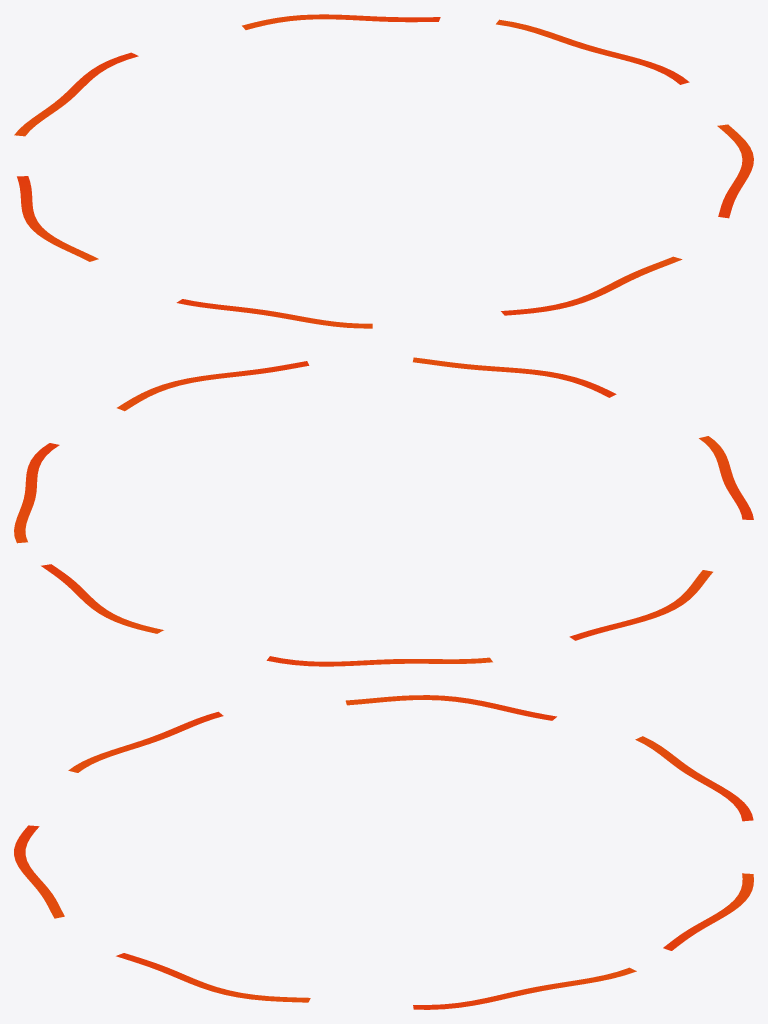
File: Explosion_ShockwaveBrokenRing.fbx
3 views of the same model, one above another, from view 1: azimuth 30°, elevation 25°; view 2: azimuth 150°, elevation 25°; view 3: azimuth 270°, elevation 25° (orthographic).
Visible parts, largest first — view 1: PART_ShockwaveBrokenRing; view 2: PART_ShockwaveBrokenRing; view 3: PART_ShockwaveBrokenRing.
Boxes of the visible parts, box(x1,y1,x2,y2) form: PART_ShockwaveBrokenRing: box(14, 14, 753, 328); PART_ShockwaveBrokenRing: box(14, 357, 753, 666); PART_ShockwaveBrokenRing: box(14, 695, 753, 1009).
Size of the model in its own units: 205 by 3.32e-05 by 204.
